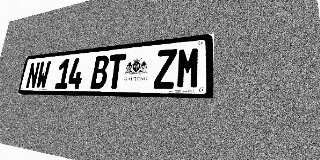1: (54, 59, 72, 89)
4: (67, 57, 85, 89)
B: (90, 55, 110, 89)
M: (176, 46, 201, 89)
N: (25, 62, 40, 89)
T: (106, 53, 126, 89)
W: (35, 61, 51, 89)
Z: (153, 48, 177, 89)
